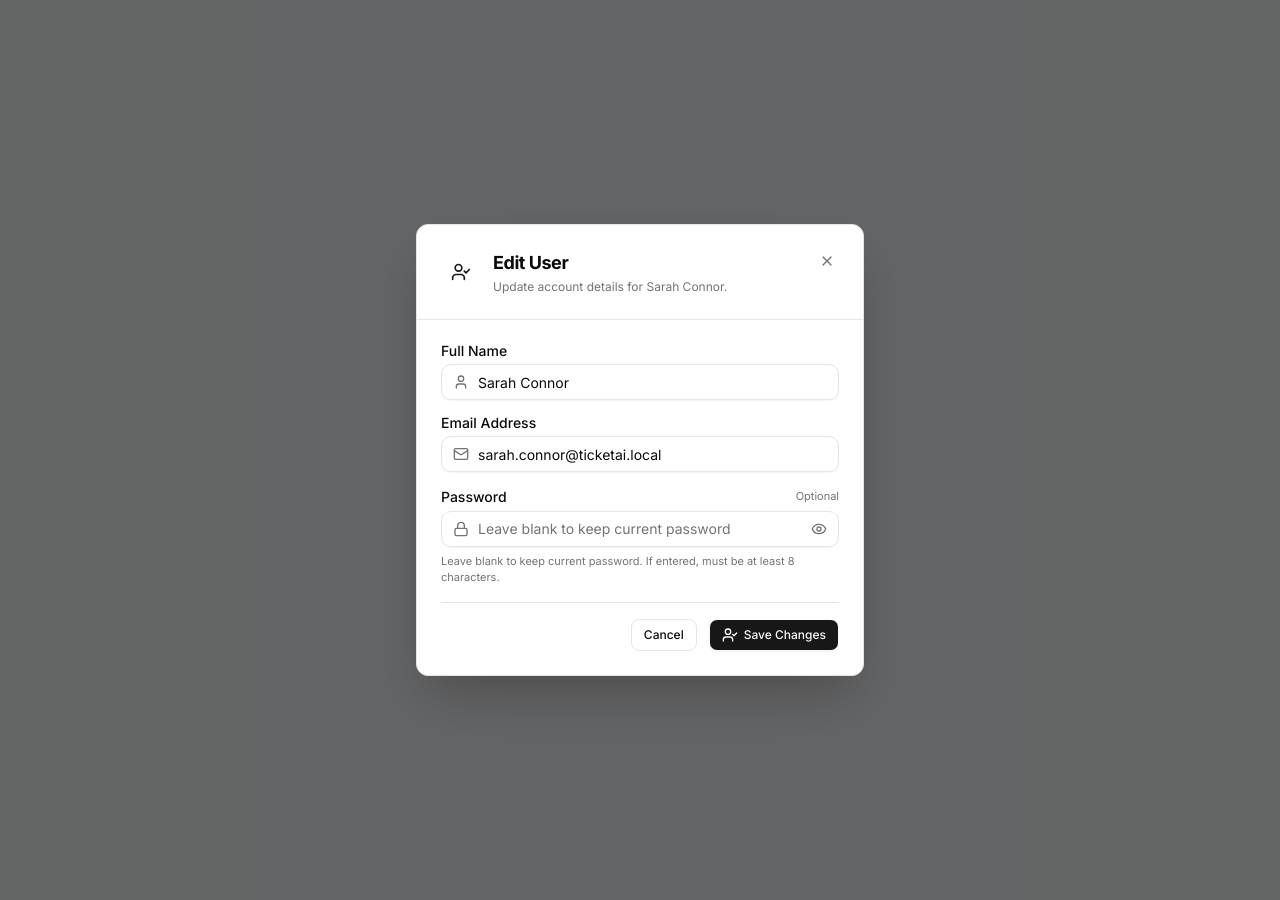
Test: EditUserModal Component Tests › 2. Form Validation Rules › shows error when email is cleared or invalid
The image size is (1280, 900).
Replace the text in the field labelled "Email Address" with "not-an-email" at [640, 454], box [441,436,839,472]
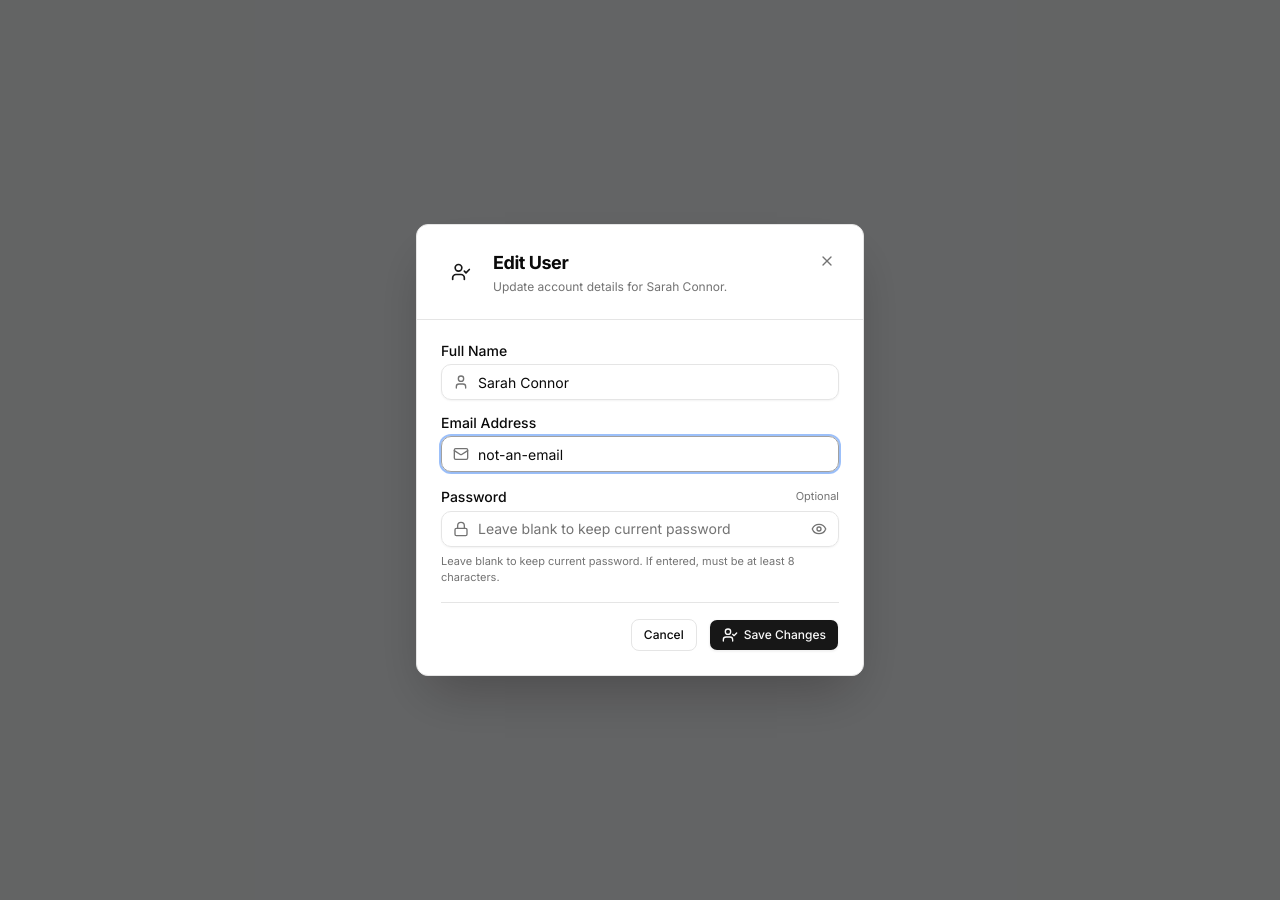
Click the button "Save Changes".
click(774, 635)  # box [709,619,839,651]
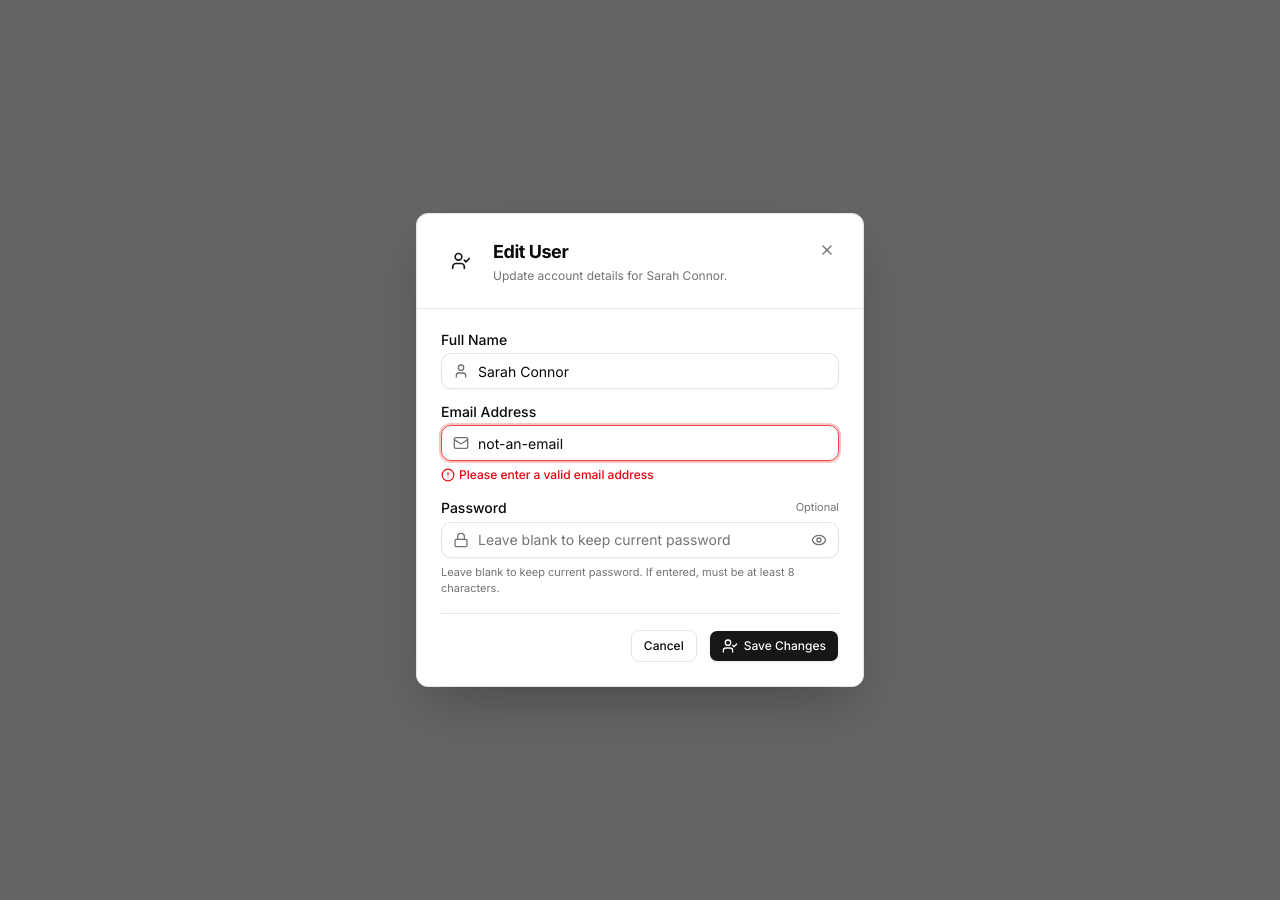
Expected: the text "Please enter a valid email address" is shown, [459,467,654,483]
